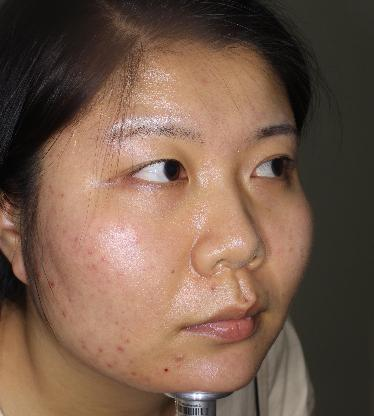Blackheads: (159, 362, 172, 375)
acne scar: (43, 275, 63, 294), (114, 342, 128, 355), (94, 343, 106, 358), (56, 309, 69, 322), (173, 352, 184, 365)
